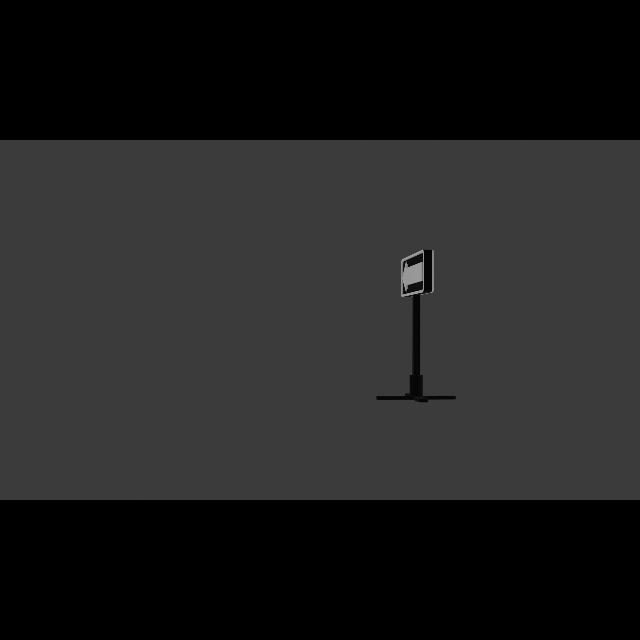sign_oneway_left: (400, 250, 434, 300)
